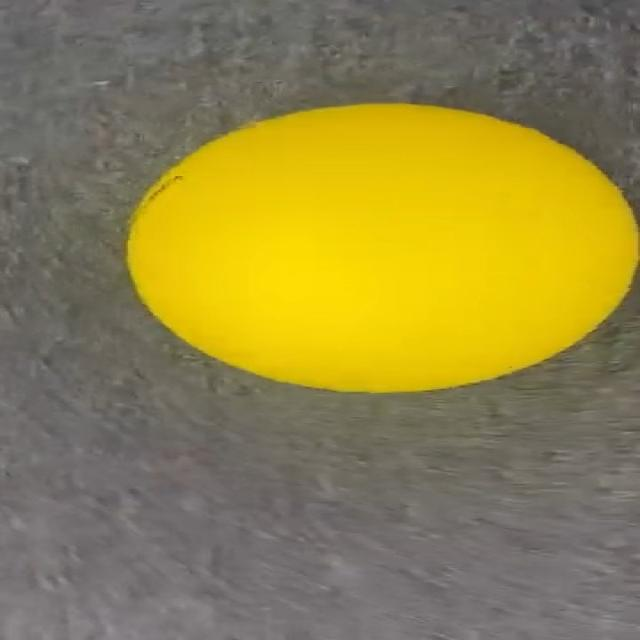Fuels: (128, 98, 636, 394)
